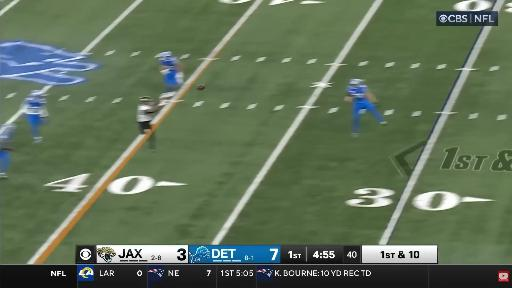Helmet: (161, 52, 172, 57)
Jersey: (24, 97, 47, 126), (159, 57, 180, 85), (25, 97, 46, 115), (0, 124, 15, 149), (347, 86, 367, 102), (137, 104, 152, 122)
Player: (345, 79, 387, 137), (23, 90, 47, 142), (159, 52, 183, 103), (137, 97, 158, 151), (0, 124, 15, 178)
